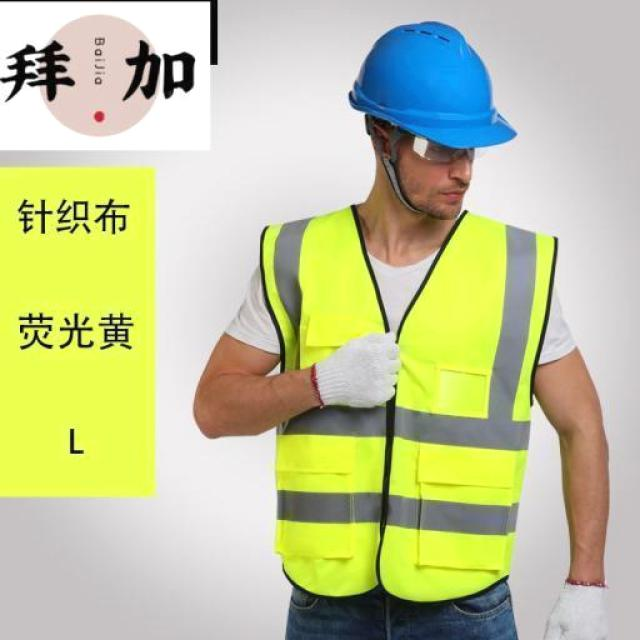face_nomask: (412, 133, 487, 215)
glasses: (402, 127, 501, 168)
hand_glove: (308, 322, 407, 412)
head_helmet: (344, 20, 521, 150)
person: (200, 21, 620, 640)
vest: (250, 205, 560, 607)
